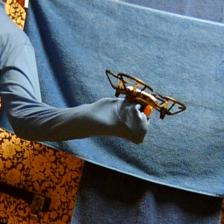drone: (105, 68, 187, 120)
